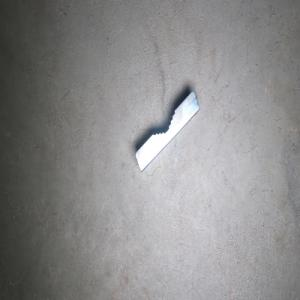ClampPart: (134, 89, 200, 172)
